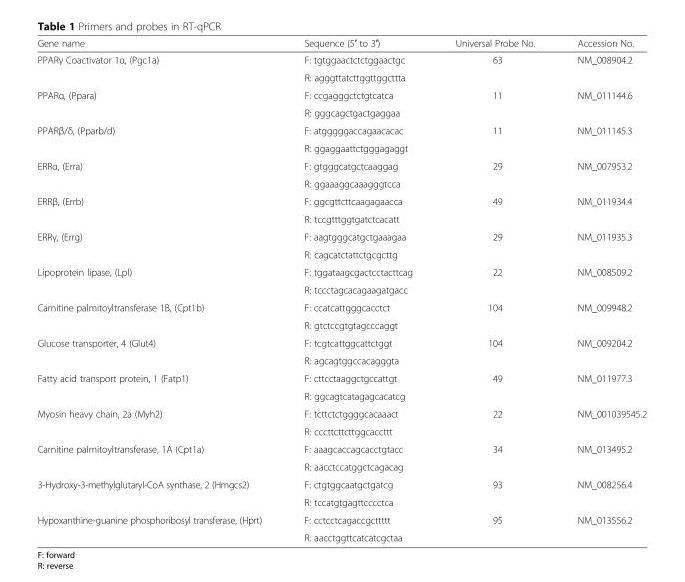table: (36, 37, 645, 542)
table column: (36, 37, 282, 542), (282, 37, 433, 542), (433, 37, 555, 542), (555, 37, 645, 542)
table column header: (36, 37, 645, 50)
table row: (36, 120, 645, 139), (36, 50, 645, 68), (36, 85, 645, 103), (36, 156, 645, 174), (36, 191, 645, 209), (36, 209, 645, 227), (36, 227, 645, 245), (36, 262, 645, 280), (36, 280, 645, 298), (36, 315, 645, 333), (36, 333, 645, 351), (36, 351, 645, 369), (36, 386, 645, 404), (36, 404, 645, 422), (36, 439, 645, 457), (36, 457, 645, 475), (36, 492, 645, 510), (36, 510, 645, 528), (36, 68, 645, 85), (36, 103, 645, 120), (36, 139, 645, 156), (36, 174, 645, 191), (36, 245, 645, 262), (36, 298, 645, 315), (36, 369, 645, 386), (36, 422, 645, 439), (36, 475, 645, 492), (36, 528, 645, 542), (36, 37, 645, 50)
table spanning cell: (36, 120, 282, 156), (36, 191, 282, 227), (36, 262, 282, 298), (36, 333, 282, 369), (36, 439, 282, 475), (36, 50, 282, 85), (36, 85, 282, 120), (36, 156, 282, 191), (36, 227, 282, 262), (36, 298, 282, 333), (36, 369, 282, 404), (36, 404, 282, 439), (36, 475, 282, 510), (36, 510, 282, 542), (433, 120, 555, 156), (433, 191, 555, 227), (433, 262, 555, 298), (433, 333, 555, 369), (433, 439, 555, 475), (433, 50, 555, 85), (433, 85, 555, 120), (433, 156, 555, 191), (433, 227, 555, 262), (433, 298, 555, 333), (433, 369, 555, 404), (433, 404, 555, 439), (433, 475, 555, 510), (433, 510, 555, 542), (555, 120, 645, 156), (555, 191, 645, 227), (555, 262, 645, 298), (555, 333, 645, 369), (555, 439, 645, 475), (555, 50, 645, 85), (555, 85, 645, 120), (555, 156, 645, 191), (555, 227, 645, 262), (555, 298, 645, 333), (555, 369, 645, 404), (555, 404, 645, 439), (555, 475, 645, 510), (555, 510, 645, 542)
